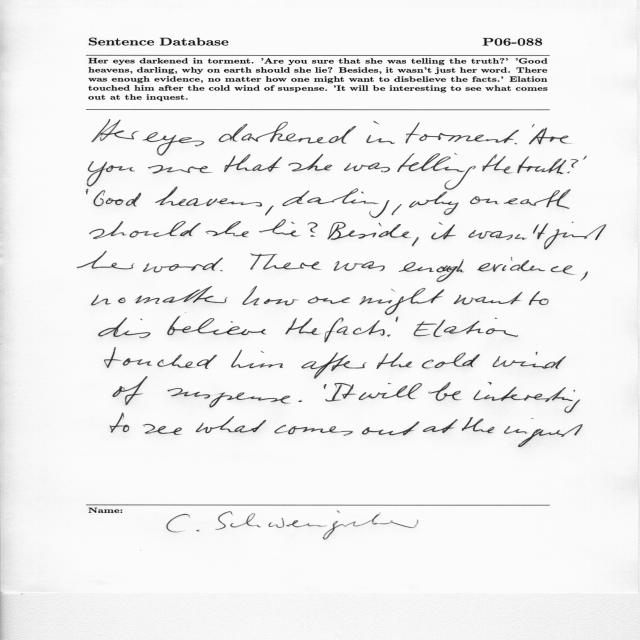word: (99, 316, 266, 338), (474, 382, 580, 413), (283, 188, 390, 218), (219, 122, 356, 144), (398, 153, 476, 190), (104, 347, 217, 369), (168, 388, 290, 408), (406, 123, 519, 144), (360, 288, 445, 315), (155, 187, 262, 206), (89, 221, 201, 239), (504, 424, 583, 447), (477, 257, 575, 275), (301, 353, 367, 379), (324, 318, 391, 343), (544, 222, 606, 249), (136, 286, 228, 304), (433, 318, 518, 337), (327, 222, 411, 240), (399, 259, 464, 282), (142, 132, 204, 155), (469, 223, 549, 240), (504, 189, 571, 209), (492, 352, 566, 369), (87, 161, 135, 187), (250, 253, 322, 270), (409, 191, 459, 215), (143, 258, 223, 273), (196, 416, 266, 433), (243, 286, 299, 306), (517, 156, 579, 174), (92, 119, 139, 142), (359, 383, 422, 400), (224, 154, 282, 172), (77, 252, 134, 270), (259, 220, 317, 237), (113, 377, 148, 405), (231, 350, 283, 368), (422, 353, 480, 369), (454, 292, 523, 305), (274, 425, 353, 436), (94, 190, 142, 207), (362, 422, 419, 436), (289, 154, 333, 171), (206, 221, 249, 237), (529, 128, 569, 145), (366, 121, 395, 144), (429, 382, 462, 401), (376, 352, 412, 369), (285, 318, 320, 335), (483, 154, 513, 173), (325, 383, 356, 401), (462, 417, 495, 433), (148, 165, 213, 173), (334, 261, 385, 271), (423, 419, 458, 433), (344, 163, 390, 173), (143, 424, 182, 435), (431, 223, 456, 240), (110, 413, 130, 432), (92, 295, 126, 306), (414, 321, 437, 336), (308, 296, 350, 304), (529, 291, 549, 305), (470, 196, 499, 204), (392, 204, 402, 215), (265, 206, 274, 216), (580, 272, 588, 282), (412, 237, 419, 246), (396, 316, 399, 322), (583, 156, 587, 160), (324, 384, 327, 389), (86, 189, 88, 195), (310, 235, 315, 237), (532, 124, 535, 127), (299, 400, 303, 402), (220, 270, 223, 271), (531, 418, 534, 419), (515, 143, 517, 144)
